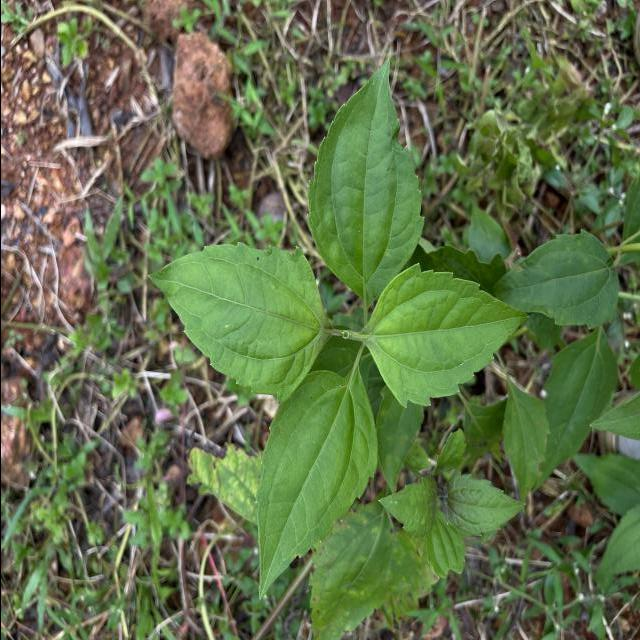Chromolaena odorata: (142, 238, 332, 408), (250, 354, 379, 604), (302, 54, 426, 313), (359, 259, 531, 411)
